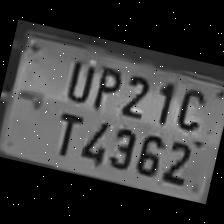1: (146, 72, 180, 128)
2: (115, 68, 154, 122), (158, 133, 196, 187)
3: (103, 119, 139, 173)
4: (75, 111, 114, 168)
6: (130, 126, 168, 179)
C: (170, 78, 212, 135)
P: (86, 59, 125, 115)
T: (44, 104, 87, 160)
U: (58, 51, 99, 106)
